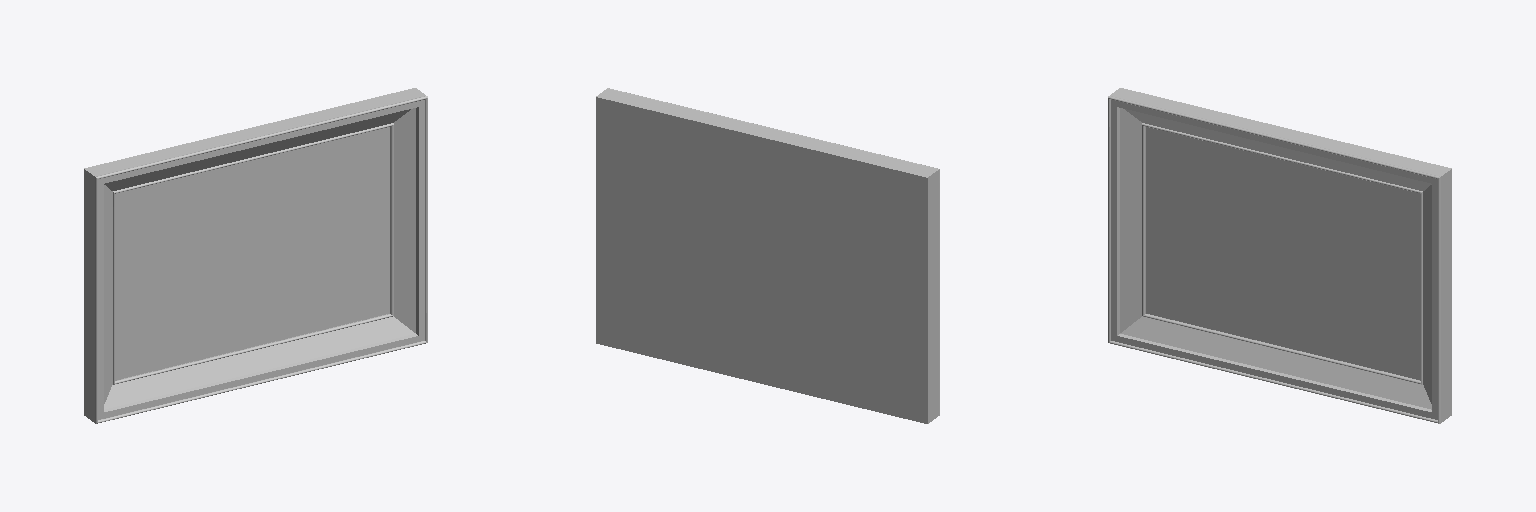
Rendered from wallpaint.obj.
3 views of the same model, side by side, from view 1: azimuth 30°, elevation 25°; view 2: azimuth 150°, elevation 25°; view 3: azimuth 330°, elevation 25° (orthographic).
Parts seen in each view (by area): view 1: Plane.001_Plane; view 2: Plane.001_Plane; view 3: Plane.001_Plane.
Part boxes in pixels (x1,y1,x2,y2): Plane.001_Plane: (84, 88, 427, 423); Plane.001_Plane: (596, 88, 939, 423); Plane.001_Plane: (1108, 88, 1451, 423).
Size of the model in its own units: 17.9 by 12.72 by 1.18.